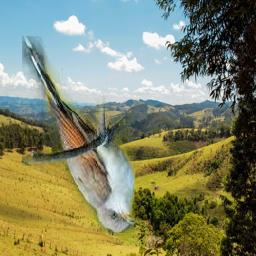Cuckoo: (23, 37, 136, 234)
